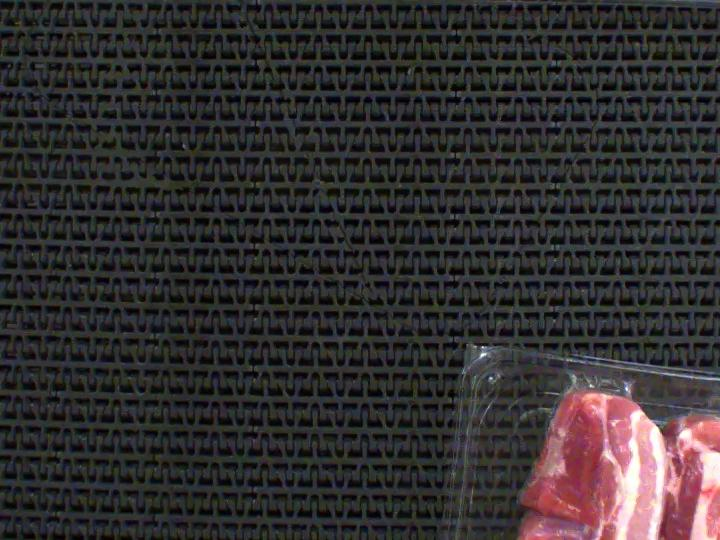packaging-error: (547, 362, 651, 411), (690, 392, 720, 428)
